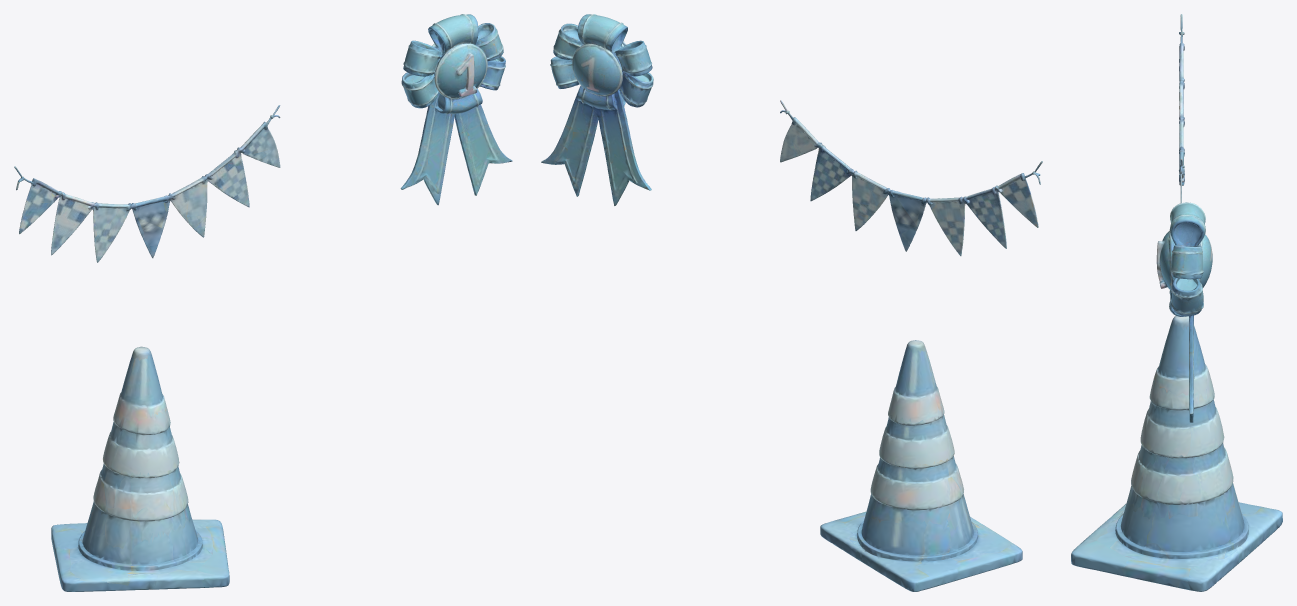
3 views of the same model, side by side, from view 1: azimuth 30°, elevation 25°; view 2: azimuth 150°, elevation 25°; view 3: azimuth 270°, elevation 25° (orthographic). The views are drawn at different scales.
Visible parts, largest first — view 1: Mesh 2, Mesh 4, Mesh 1; view 2: Mesh 2, Mesh 4, Mesh 1; view 3: Mesh 2, Mesh 4, Mesh 1.
Boxes of the visible parts, x1,y1,x2,y2 form: Mesh 2: (51, 346, 229, 591); Mesh 4: (400, 14, 512, 205); Mesh 1: (14, 105, 280, 262); Mesh 2: (820, 340, 1022, 591); Mesh 4: (541, 14, 653, 205); Mesh 1: (780, 100, 1042, 256); Mesh 2: (1071, 316, 1282, 591); Mesh 4: (1156, 202, 1212, 422); Mesh 1: (1179, 14, 1184, 203).
Bounding box in the file's own units: 1.7 × 1.5 × 0.5676.
Materials: 3 (3 with a texture image).
